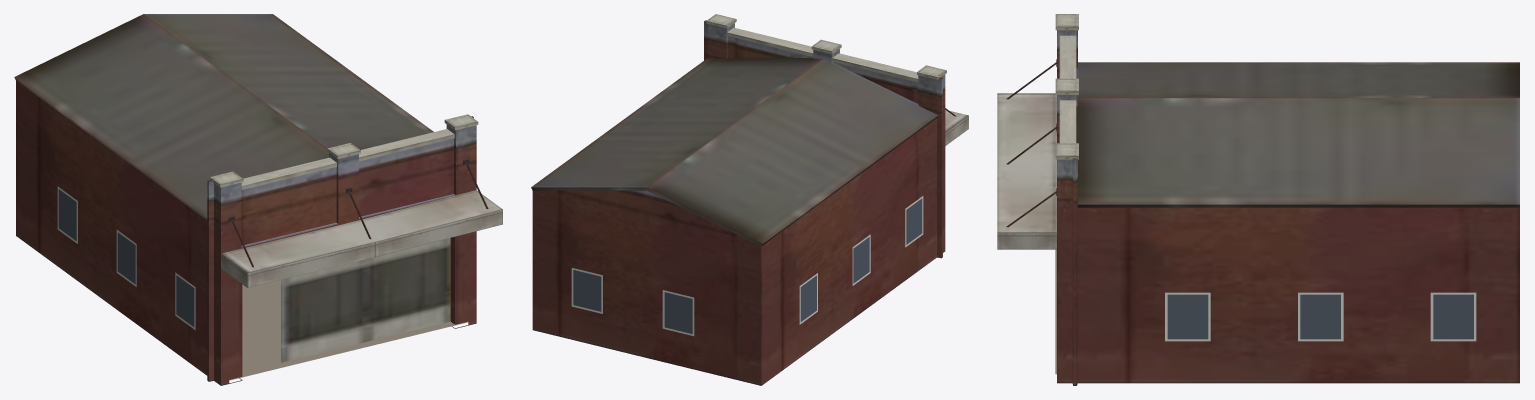
File: rural-store-1.windows-v1.lod1.glb
The picture shows the model from 3 angles, left to right: view 1: azimuth 30°, elevation 25°; view 2: azimuth 150°, elevation 25°; view 3: azimuth 270°, elevation 25°; orthographic projection. The views are drawn at different scales.
Visible parts, largest first — view 1: Rural_StoreSmall_1_Rural_Brownstone_Facade_Flr_6_0, Rural_StoreSmall_1_Rural_Facade_FLR_2_0, Walkable floors and stairs, Window glass and frames; view 2: Rural_StoreSmall_1_Rural_Brownstone_Facade_Flr_6_0, Window glass and frames, Rural_StoreSmall_1_Rural_Facade_FLR_2_0; view 3: Rural_StoreSmall_1_Rural_Brownstone_Facade_Flr_6_0, Rural_StoreSmall_1_Rural_Facade_FLR_2_0, Window glass and frames.
Boxes of the visible parts, x1,y1,x2,y2 form: Rural_StoreSmall_1_Rural_Brownstone_Facade_Flr_6_0: (14, 14, 476, 385); Rural_StoreSmall_1_Rural_Facade_FLR_2_0: (210, 114, 502, 362); Walkable floors and stairs: (230, 280, 468, 380); Window glass and frames: (57, 186, 195, 330); Rural_StoreSmall_1_Rural_Brownstone_Facade_Flr_6_0: (531, 20, 945, 385); Window glass and frames: (571, 196, 923, 336); Rural_StoreSmall_1_Rural_Facade_FLR_2_0: (706, 14, 968, 145); Rural_StoreSmall_1_Rural_Brownstone_Facade_Flr_6_0: (1057, 30, 1519, 385); Rural_StoreSmall_1_Rural_Facade_FLR_2_0: (997, 14, 1078, 249); Window glass and frames: (1165, 292, 1476, 341).
Size of the model in its own units: 8.32 by 6.06 by 12.61.
4 materials, 2 textured.
